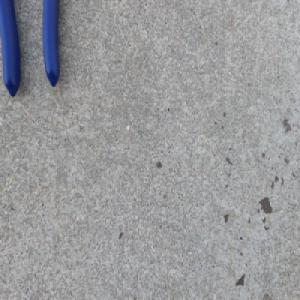Pliers: (0, 0, 62, 98)
